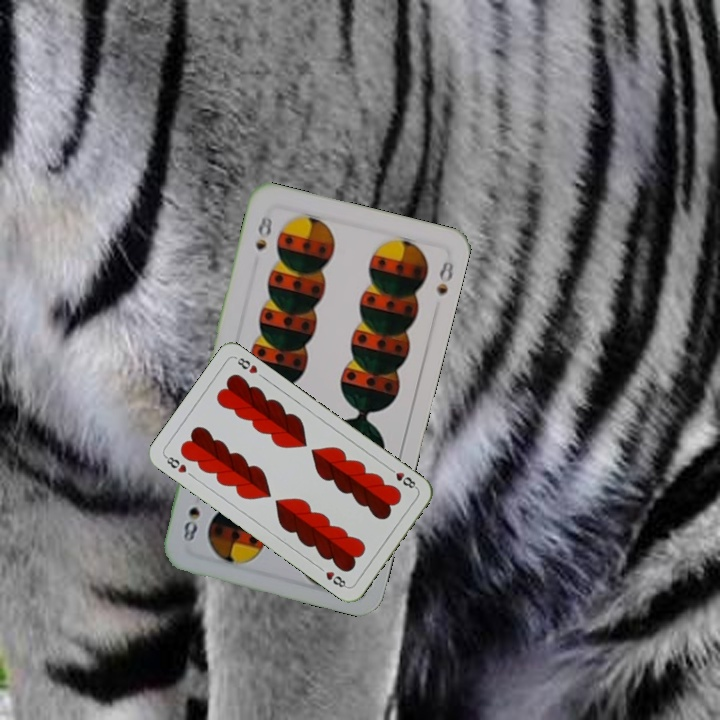H8: (384, 463, 420, 492), (161, 452, 189, 476)
S8: (251, 211, 275, 253)
